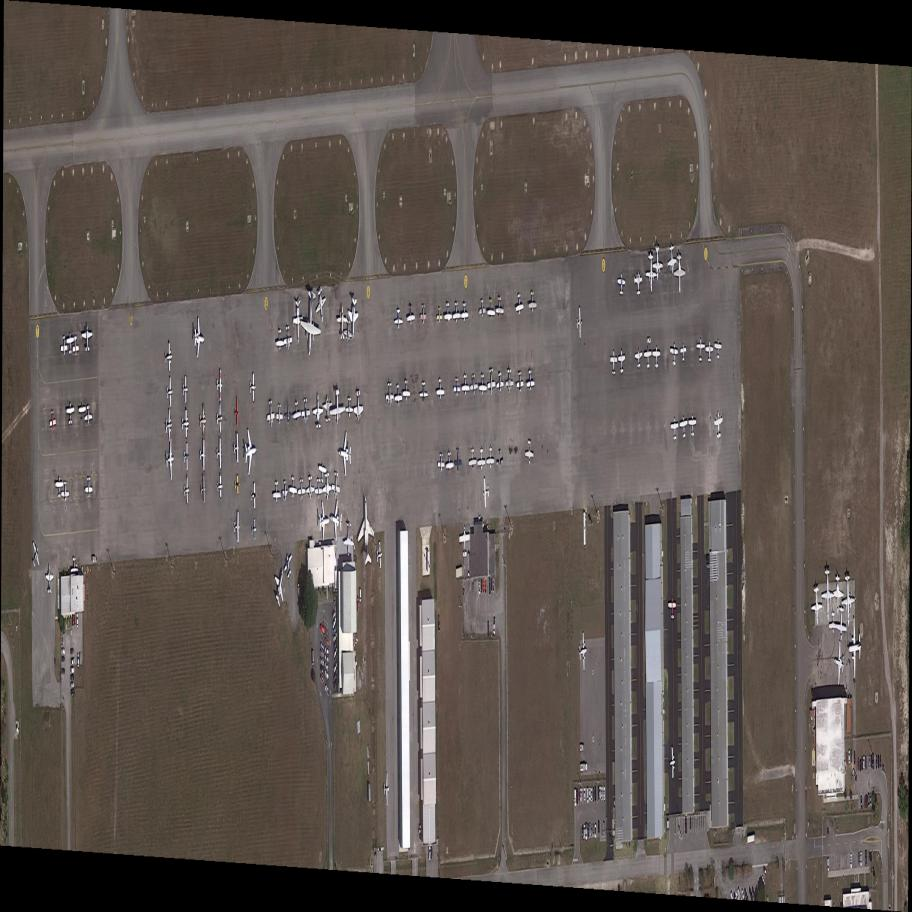large-vehicle: (745, 835, 757, 844), (580, 763, 588, 773), (580, 744, 585, 753), (578, 788, 580, 802)
plane: (299, 286, 322, 363), (268, 557, 292, 614), (357, 492, 375, 568), (847, 616, 862, 683), (841, 572, 855, 629), (821, 568, 835, 623), (314, 283, 329, 332), (27, 537, 45, 577), (338, 429, 352, 478), (329, 386, 346, 426), (329, 495, 343, 543), (245, 426, 257, 477), (348, 296, 359, 344), (811, 585, 823, 629), (832, 573, 844, 616), (674, 253, 686, 295), (645, 253, 657, 295), (194, 317, 205, 362), (835, 606, 847, 646), (319, 500, 330, 543), (834, 639, 844, 686), (282, 547, 295, 583), (343, 520, 355, 559), (293, 300, 303, 346), (312, 393, 323, 430), (653, 244, 663, 282), (354, 389, 364, 426), (459, 525, 470, 558), (166, 438, 174, 483), (337, 305, 347, 340), (82, 323, 93, 353), (713, 408, 723, 441), (579, 632, 587, 672), (667, 244, 677, 276), (322, 471, 332, 502), (482, 475, 490, 511), (487, 366, 496, 398), (332, 470, 341, 501), (301, 396, 310, 426), (284, 324, 293, 353), (323, 394, 332, 423), (46, 564, 54, 595), (306, 474, 315, 501), (267, 399, 275, 429), (165, 343, 173, 373), (576, 307, 583, 341), (652, 346, 661, 371), (289, 475, 298, 500), (696, 338, 705, 363), (216, 403, 223, 435), (293, 398, 301, 426), (386, 382, 394, 409), (643, 347, 652, 371), (634, 271, 642, 298), (506, 368, 514, 395), (525, 441, 534, 465), (166, 409, 172, 444), (680, 415, 688, 441), (617, 273, 626, 296), (436, 378, 445, 401), (84, 404, 93, 427), (668, 598, 677, 621), (394, 308, 403, 331), (669, 746, 675, 780), (182, 410, 189, 439), (486, 445, 494, 470), (469, 447, 477, 472), (454, 449, 462, 474), (496, 370, 504, 395), (516, 292, 524, 317), (284, 400, 292, 425), (407, 303, 415, 328), (477, 447, 485, 472), (670, 343, 678, 368), (496, 447, 504, 472), (167, 377, 173, 410), (61, 482, 70, 504), (705, 341, 714, 363), (527, 368, 535, 392), (516, 371, 524, 395), (496, 296, 504, 320), (688, 414, 696, 438), (344, 320, 352, 344), (234, 512, 240, 544), (217, 370, 223, 402), (444, 301, 452, 325), (273, 480, 281, 504), (319, 462, 327, 486), (298, 477, 306, 501), (470, 373, 478, 397), (671, 417, 679, 441), (829, 611, 837, 635), (610, 350, 617, 377), (216, 438, 222, 469), (200, 440, 206, 471), (184, 475, 190, 506), (446, 451, 454, 474), (487, 298, 495, 321), (453, 301, 461, 324), (635, 347, 643, 370), (276, 329, 284, 352), (394, 383, 402, 406), (462, 374, 470, 397), (714, 339, 722, 362), (200, 475, 206, 505), (377, 541, 383, 571), (529, 291, 537, 313), (461, 302, 469, 324), (85, 477, 93, 499), (66, 403, 74, 425), (72, 336, 80, 358), (315, 478, 323, 500), (250, 374, 256, 403), (200, 408, 206, 437), (384, 772, 389, 806), (618, 350, 625, 374), (479, 374, 487, 395), (420, 381, 428, 402), (420, 304, 427, 327), (49, 410, 56, 433), (67, 333, 74, 356), (346, 396, 353, 419), (234, 433, 239, 465), (234, 397, 239, 428), (479, 298, 486, 320), (61, 335, 68, 357), (184, 441, 189, 471), (217, 475, 223, 500), (438, 452, 445, 473), (453, 377, 460, 398), (56, 477, 63, 498), (276, 404, 283, 425), (403, 380, 410, 401), (183, 375, 188, 404), (251, 483, 256, 510), (680, 344, 687, 363), (282, 480, 288, 502), (79, 405, 86, 423), (436, 307, 442, 326), (252, 519, 257, 541), (235, 475, 240, 495)
small-vehicle: (850, 767, 860, 784), (322, 669, 332, 683), (331, 668, 340, 683), (747, 884, 754, 902), (323, 684, 332, 698), (330, 616, 339, 630), (318, 672, 327, 686), (331, 646, 339, 660), (331, 678, 339, 692), (331, 624, 339, 637), (318, 641, 327, 652), (760, 874, 767, 888), (330, 609, 338, 621), (762, 865, 769, 877), (332, 662, 339, 674), (332, 639, 339, 651), (332, 632, 339, 644), (320, 623, 326, 636), (751, 886, 756, 901), (438, 614, 441, 634), (320, 656, 325, 668), (574, 789, 577, 808), (493, 616, 496, 635), (827, 856, 830, 873), (298, 583, 301, 600), (587, 823, 590, 839), (594, 786, 597, 802), (325, 645, 329, 657), (325, 662, 329, 674), (597, 786, 600, 801), (320, 648, 324, 659), (325, 636, 329, 647), (325, 653, 329, 664), (472, 581, 475, 595), (685, 816, 687, 835), (587, 788, 589, 806), (92, 555, 96, 564), (489, 577, 491, 595), (61, 655, 65, 664), (585, 823, 587, 840), (601, 786, 603, 803), (580, 787, 582, 804), (872, 753, 874, 770), (865, 850, 867, 867), (860, 850, 862, 867), (357, 597, 359, 614), (591, 823, 593, 839), (582, 825, 584, 841), (593, 787, 595, 803), (591, 787, 593, 803), (584, 787, 586, 803), (878, 754, 880, 770), (868, 792, 870, 808), (866, 794, 868, 810), (860, 794, 862, 810), (850, 853, 852, 869), (312, 650, 314, 666), (359, 587, 361, 603), (603, 821, 605, 836), (598, 820, 600, 835), (593, 823, 595, 838), (589, 823, 591, 838), (603, 786, 605, 801), (599, 786, 601, 801), (589, 786, 591, 801), (690, 816, 692, 831), (870, 793, 872, 808), (876, 756, 878, 771), (869, 756, 871, 771), (865, 756, 867, 771), (863, 756, 865, 771), (854, 750, 856, 765), (848, 750, 850, 765), (493, 578, 495, 593), (491, 577, 493, 592), (429, 847, 431, 862), (861, 757, 863, 771), (859, 758, 861, 772), (858, 851, 860, 865), (70, 674, 74, 681), (77, 654, 79, 668), (71, 658, 75, 665), (70, 648, 74, 655), (61, 668, 65, 675), (72, 613, 74, 627), (76, 614, 78, 628), (485, 580, 487, 594), (479, 581, 481, 595), (62, 647, 65, 656), (846, 753, 848, 765), (71, 666, 74, 674), (74, 614, 76, 626), (483, 581, 485, 593), (431, 847, 433, 859), (71, 682, 74, 689), (488, 620, 489, 638), (595, 823, 596, 839), (584, 825, 585, 841), (577, 788, 578, 804), (880, 753, 881, 768), (865, 795, 866, 809), (851, 749, 852, 763), (871, 755, 872, 768), (858, 758, 859, 771), (481, 581, 482, 593)
